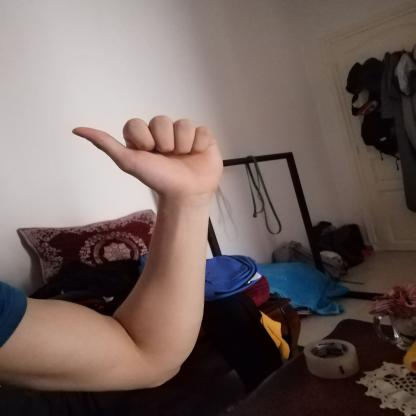DAD: (59, 108, 234, 204)
